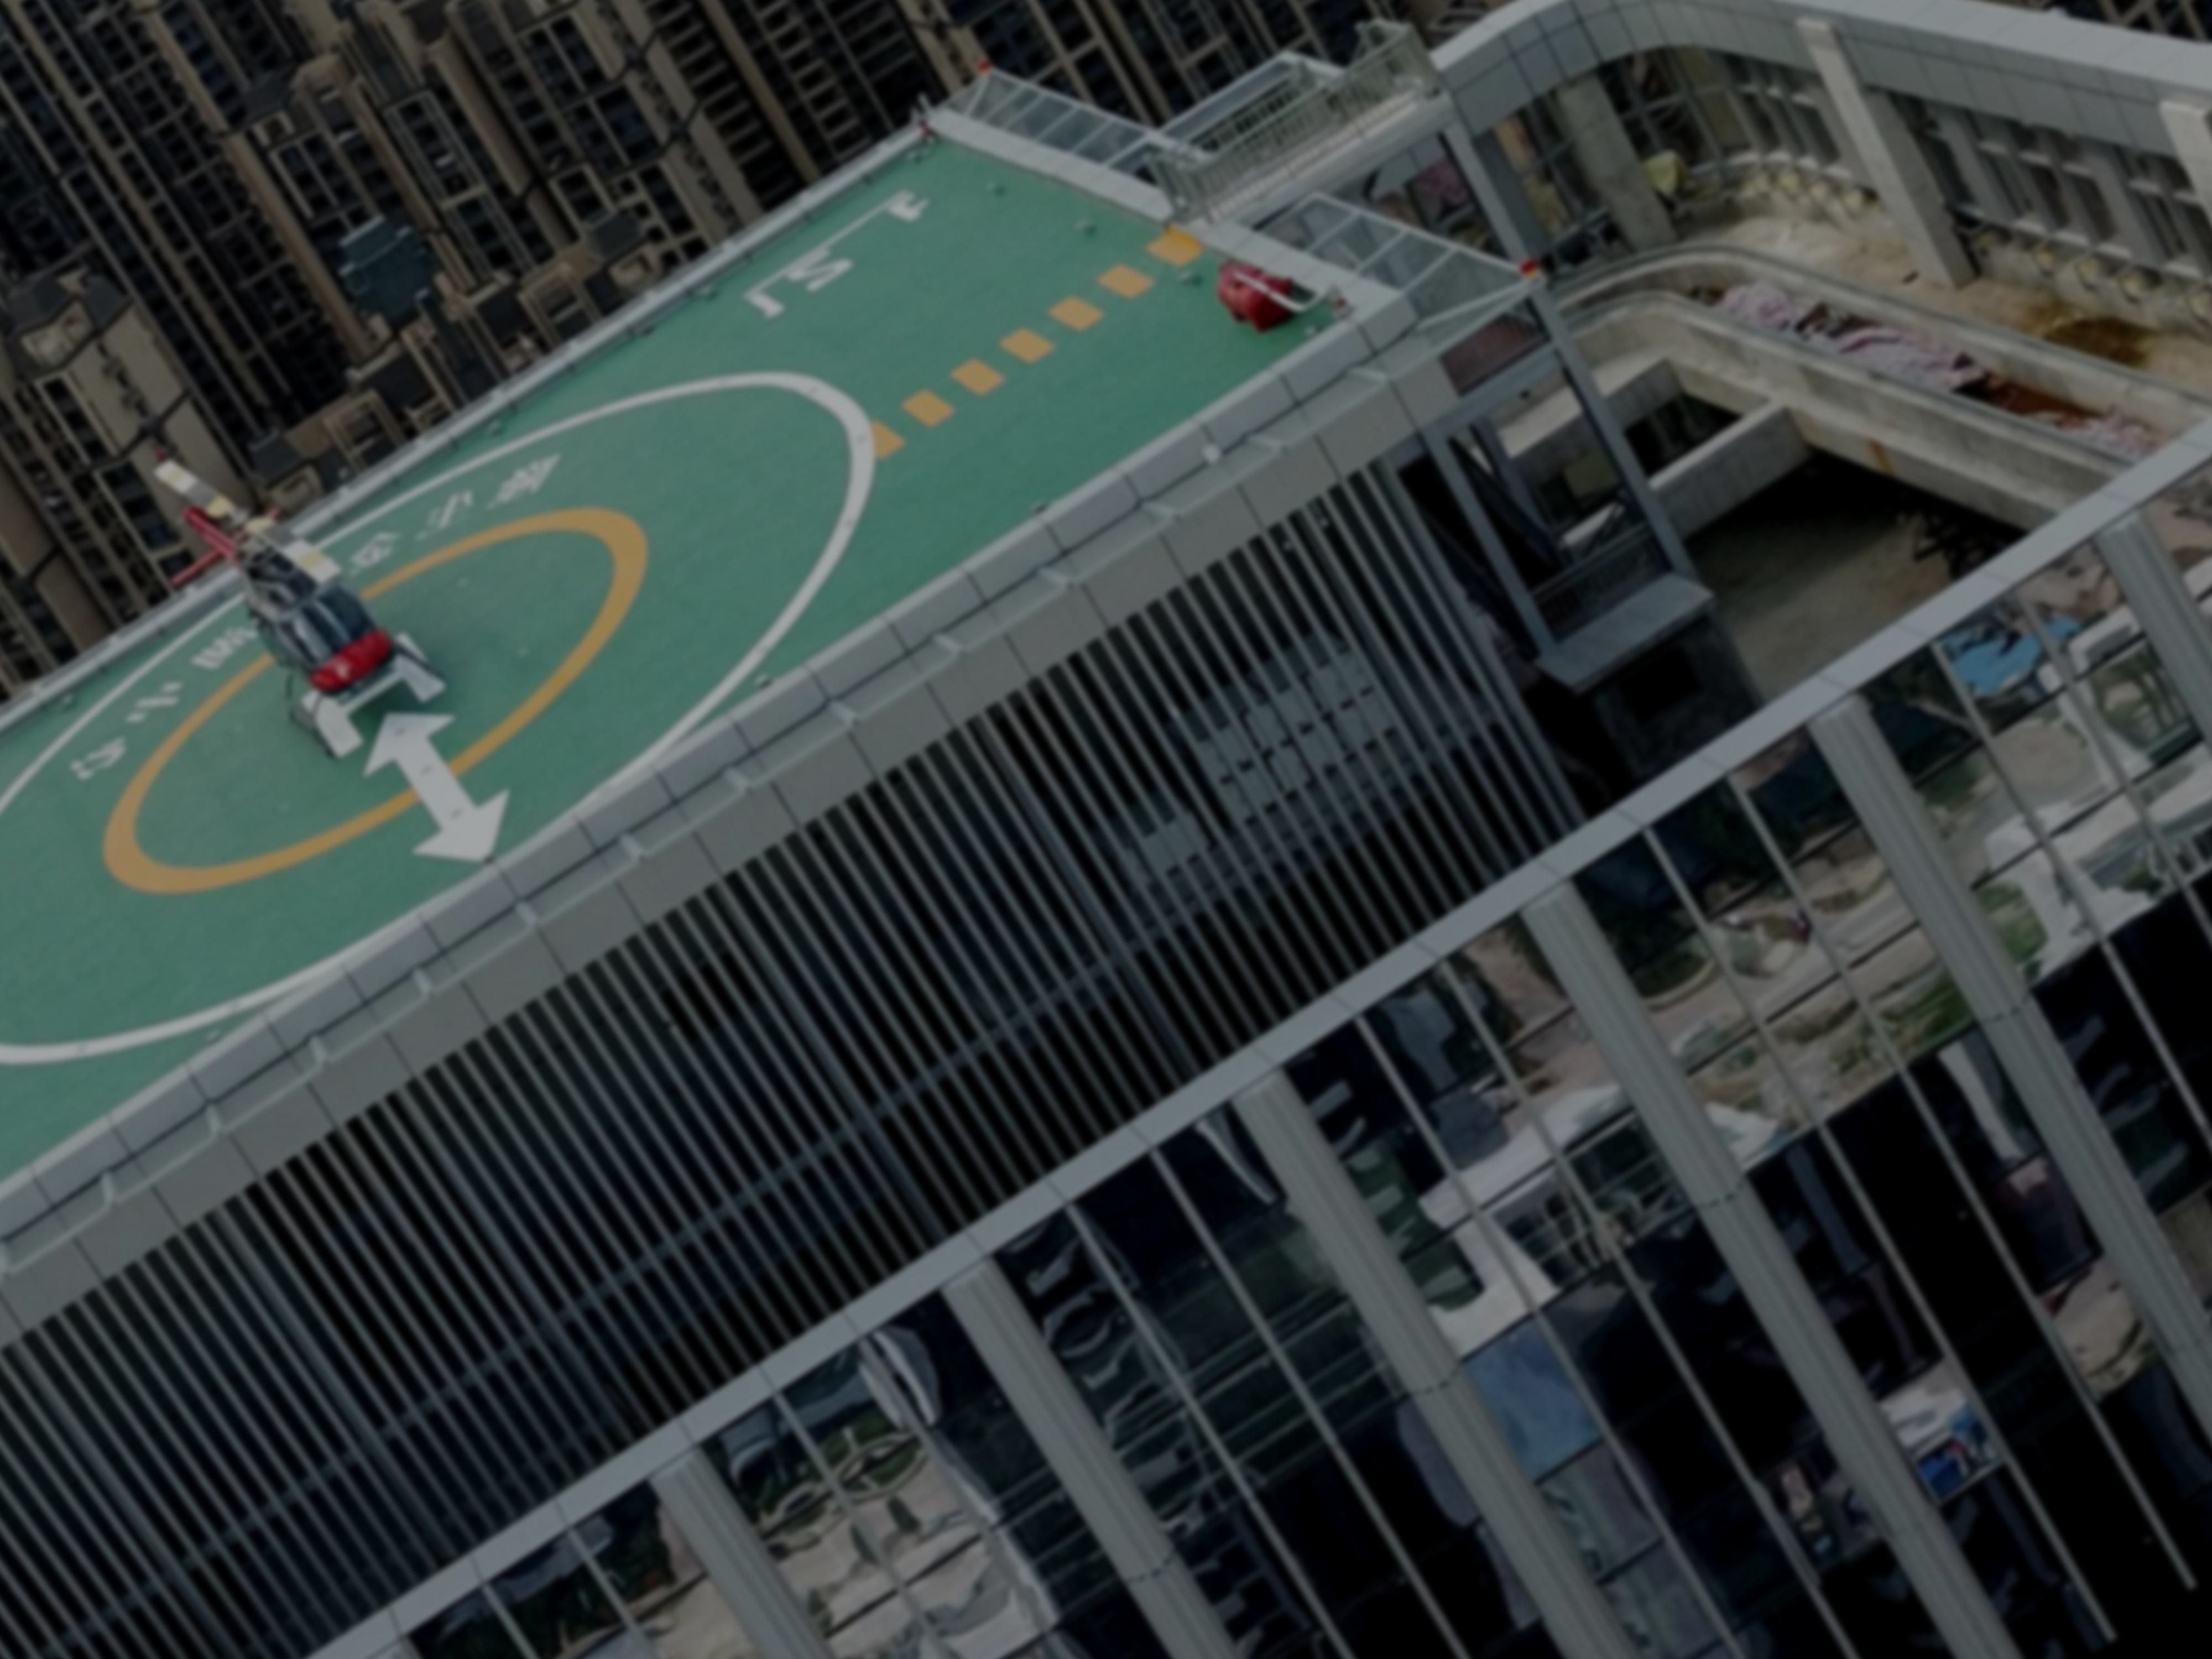Apron: (139, 538, 554, 781)
